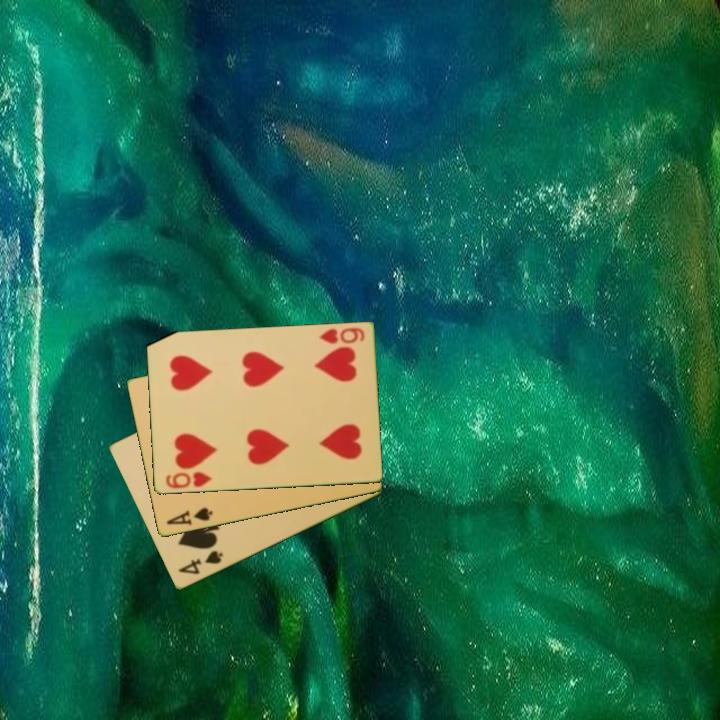4s: (174, 547, 226, 578)
6h: (162, 468, 214, 491), (315, 325, 367, 347)
As: (163, 504, 215, 528)
